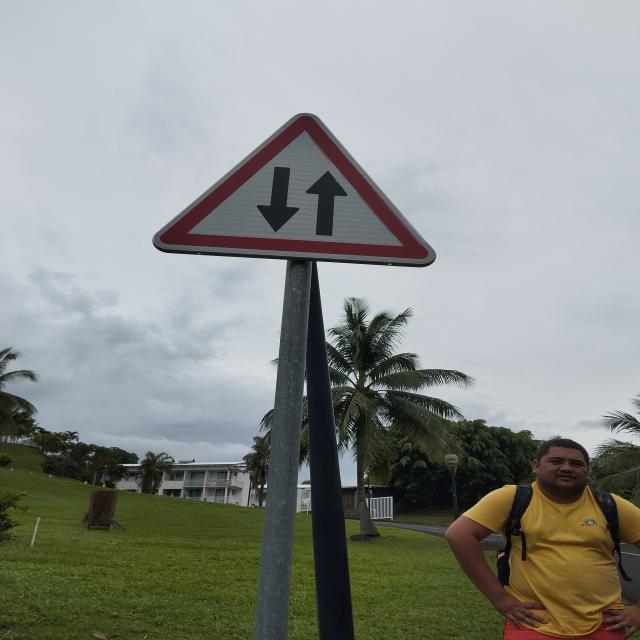Double-Sens: (143, 109, 445, 267)
